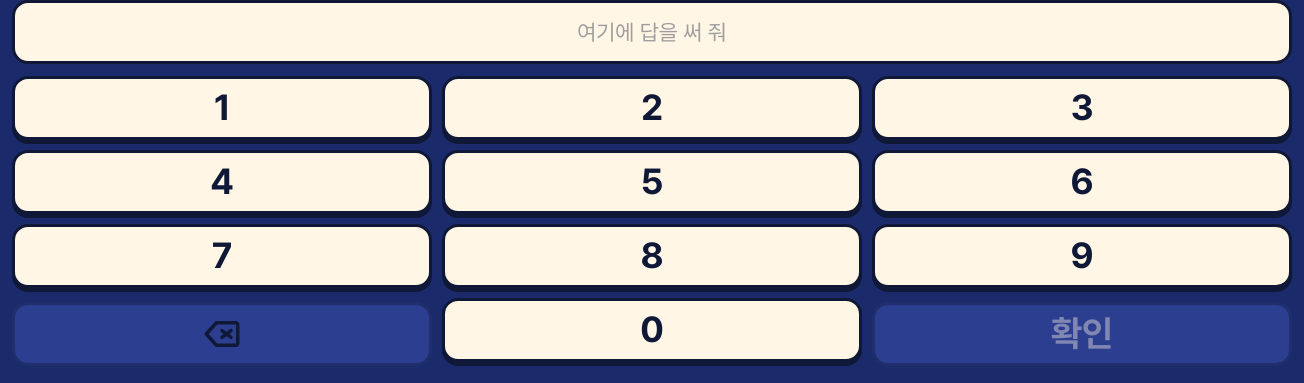
Test: NumPad › 지우기는 마지막 한 글자만 지운다
Click the button "1" at [222, 108], box [12, 76, 432, 140]
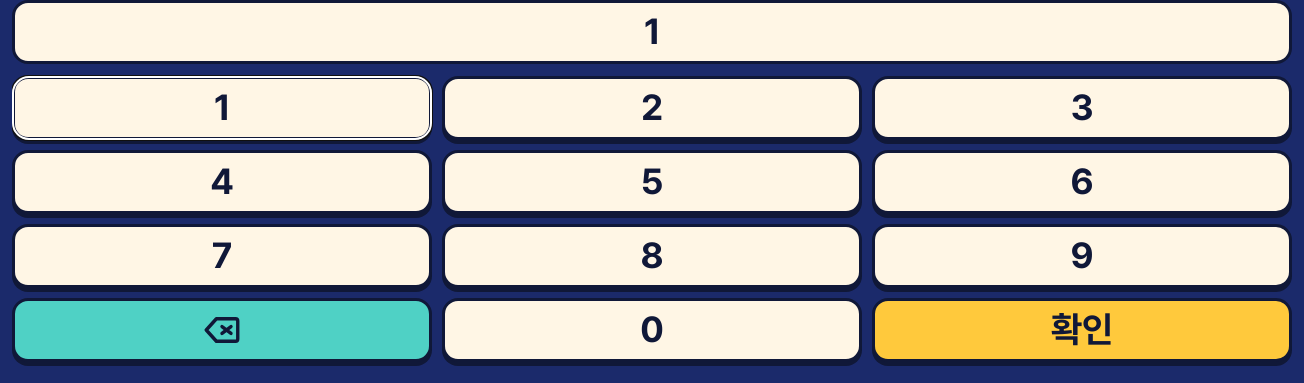
Click the button "2" at [652, 108], box [442, 76, 862, 140]
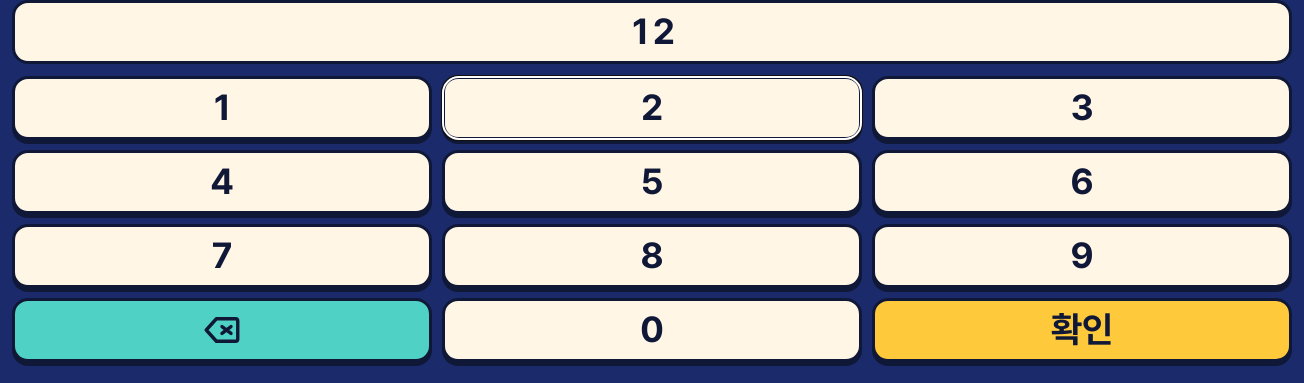
Click the button "3" at [1082, 108], box [872, 76, 1292, 140]
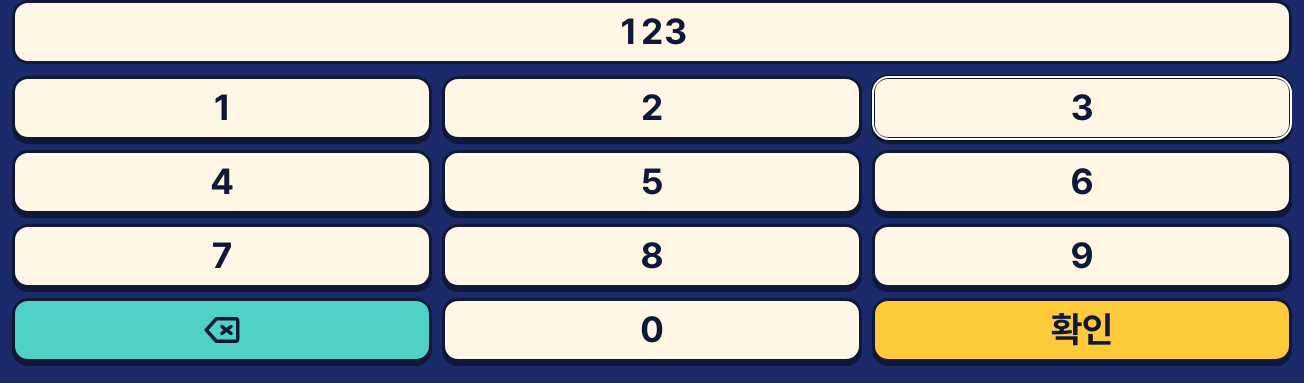
Click the button named "지우기" at [222, 330], box [12, 298, 432, 362]
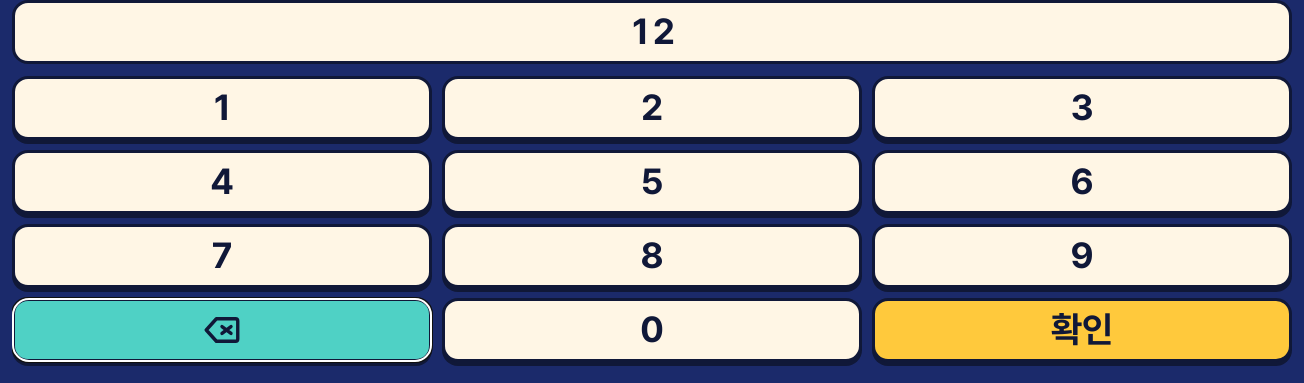
Expected: the element named "내가 쓴 답" reads "12", [628, 10, 676, 53]
